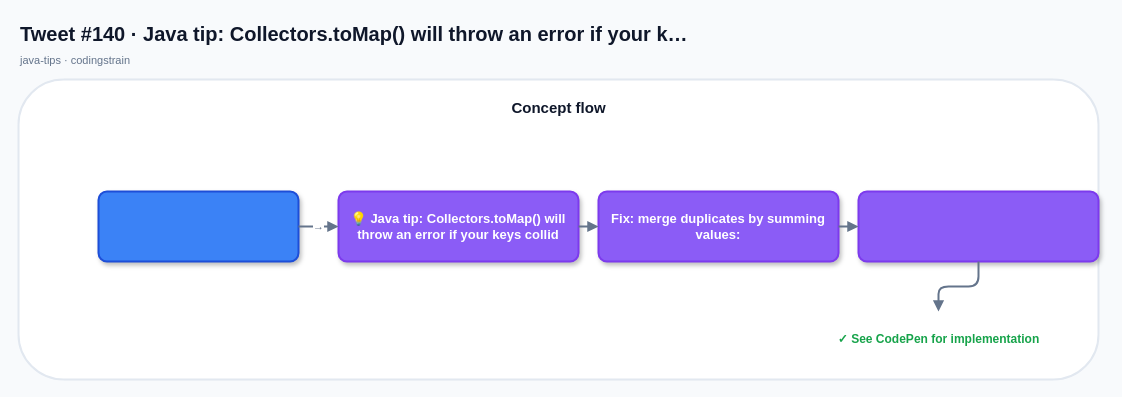
The diagram is 1122 pixels wide and 397 high, and some of its shapes have lost their labels. Each missing label, with the centre of its shape:
Java tip: Collectors.toMap() will throw an error if your keys collide.: (x=979, y=227)
Problem / context: (x=199, y=227)
